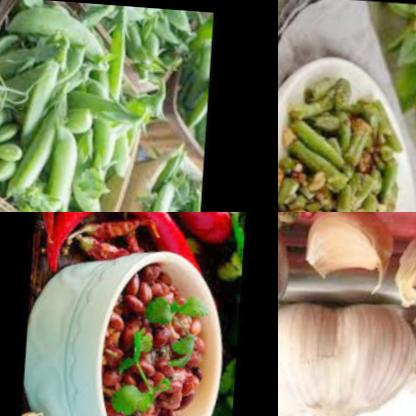fasol: (97, 259, 221, 416), (278, 80, 416, 212)
garlic: (278, 294, 416, 416), (301, 212, 402, 286), (391, 226, 416, 307), (23, 401, 67, 416)
hot pepper: (37, 212, 201, 268), (133, 212, 237, 242), (76, 212, 163, 241), (41, 212, 95, 246), (78, 236, 133, 259)
peas: (0, 11, 135, 211), (89, 0, 206, 83), (150, 149, 206, 212)
